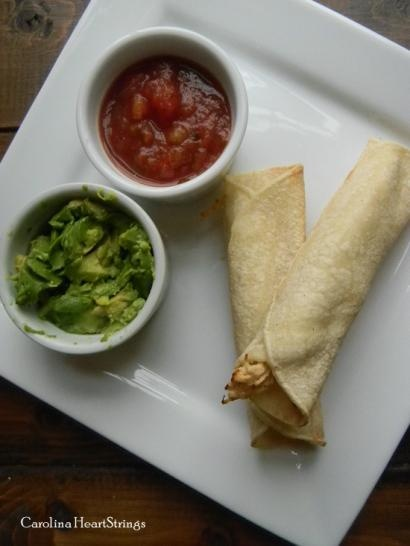background: (120, 118, 262, 391), (4, 134, 99, 291), (63, 45, 148, 158)
